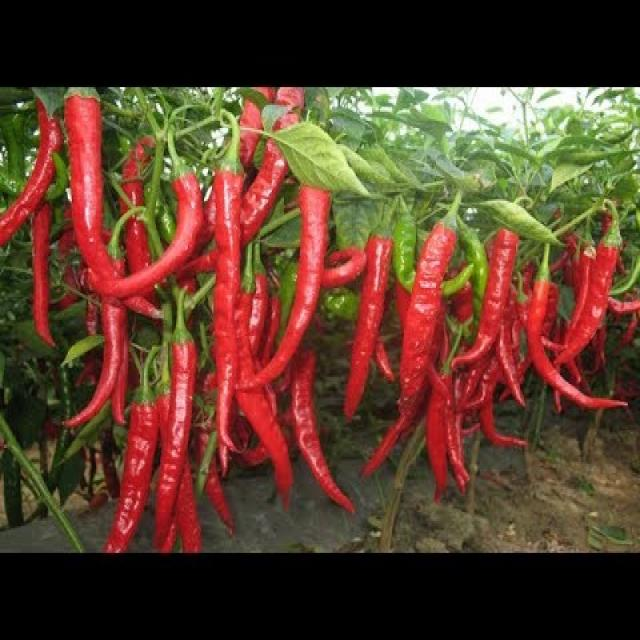red chili: (523, 267, 630, 424), (260, 180, 332, 374), (334, 224, 394, 432), (401, 217, 457, 415), (60, 89, 118, 267), (452, 238, 523, 374), (212, 164, 243, 456), (153, 331, 196, 538), (29, 202, 56, 362)
